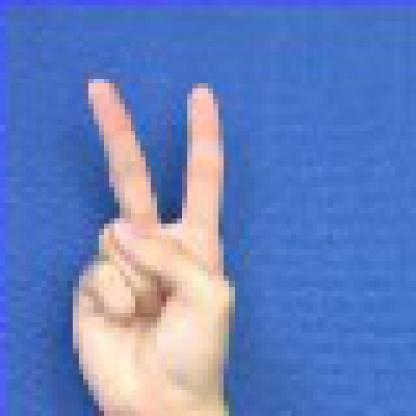two: (57, 52, 260, 411)
